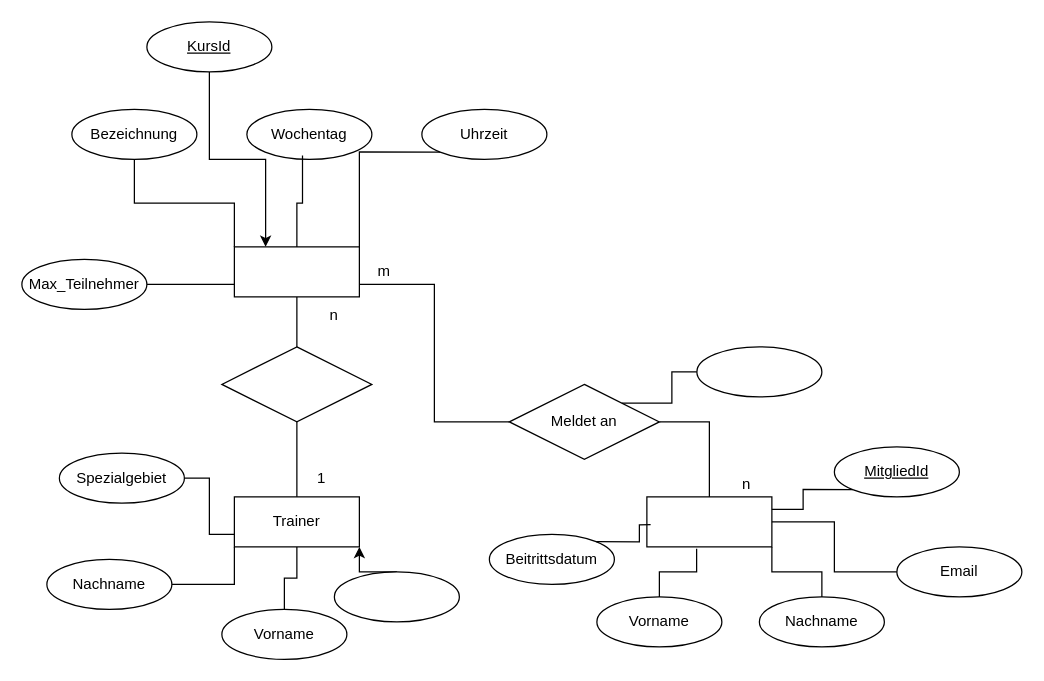
The diagram is 1044 pixels wide and 681 high, and some of its shapes have lost their labels. The box of each missing label's shape, as (x1, y1, x2, y2) in pixels:
Anmelde Datum: (696, 346, 822, 397)
Geleitet von: (221, 346, 372, 422)
Kurs: (233, 246, 359, 297)
Mitglied: (646, 496, 772, 547)
TrainerId: (333, 571, 459, 622)
